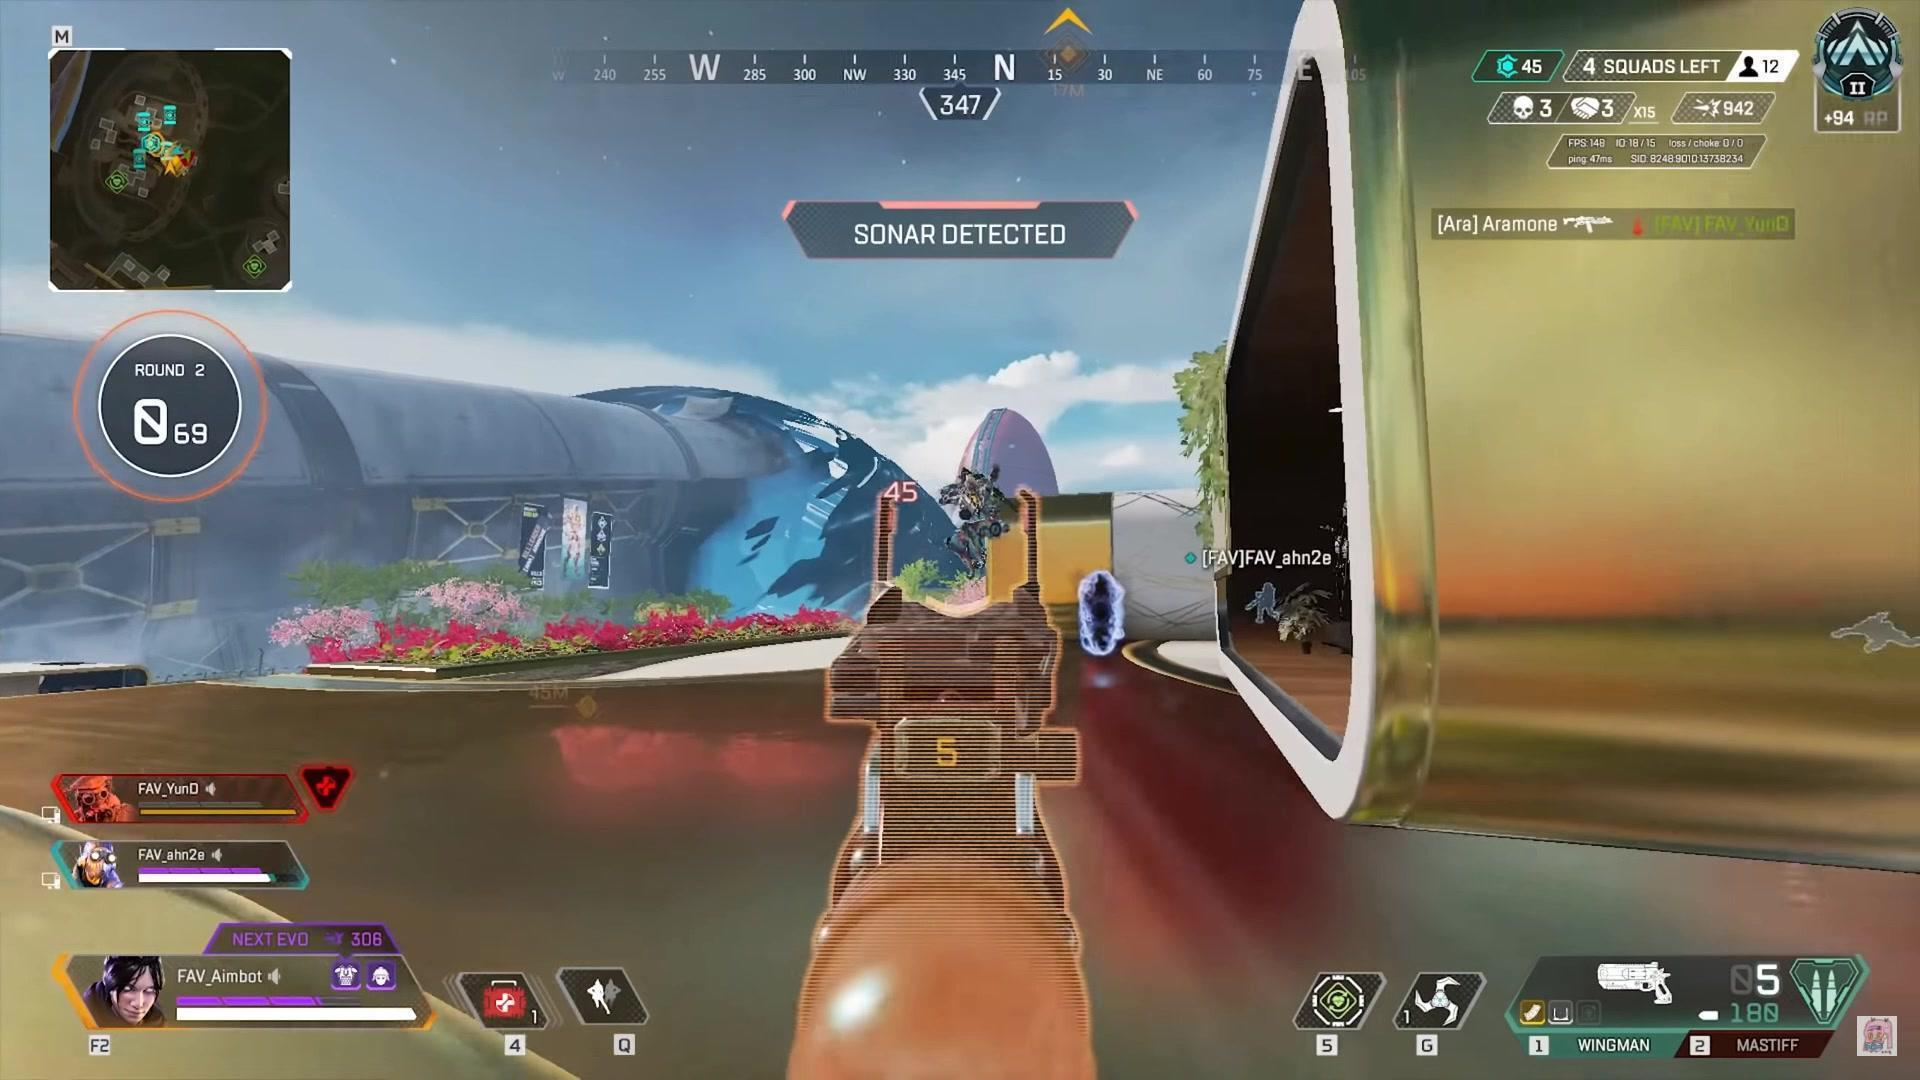avatar: (935, 462, 1012, 585)
